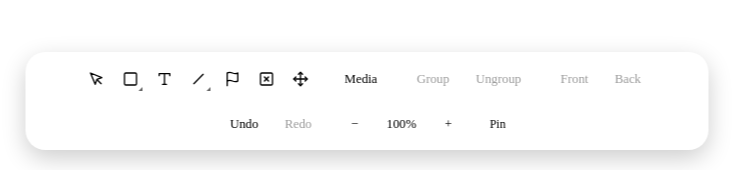
Test: Illustrator-style tool-group flyouts › picking a tool from the flyout selects it, closes the flyout, and becomes the slot's remembered icon
The image size is (735, 170).
Press the mouse on the button named "Rect" at (131,79), box [116,64,146,94]
Wait 401 ms
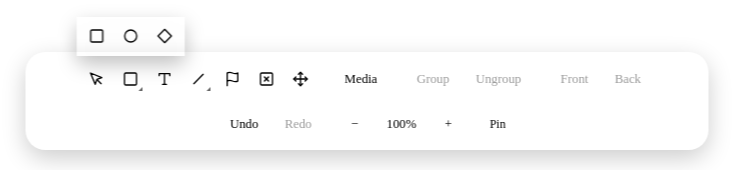
Click the menu item named "Ellipse" at (131,36), box [116,21,146,51]
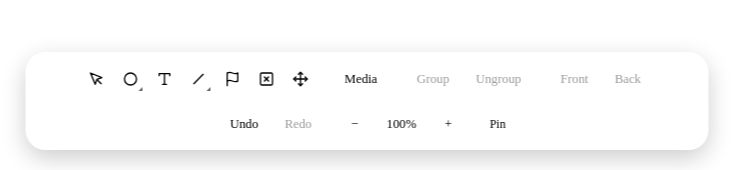
Expected: the menu is gone
Expected: the button named "Ellipse" is shown, [116,64,146,94]
